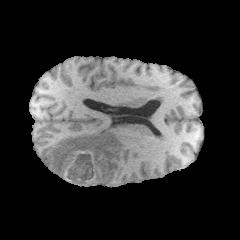glioma: (50, 125, 125, 186)
